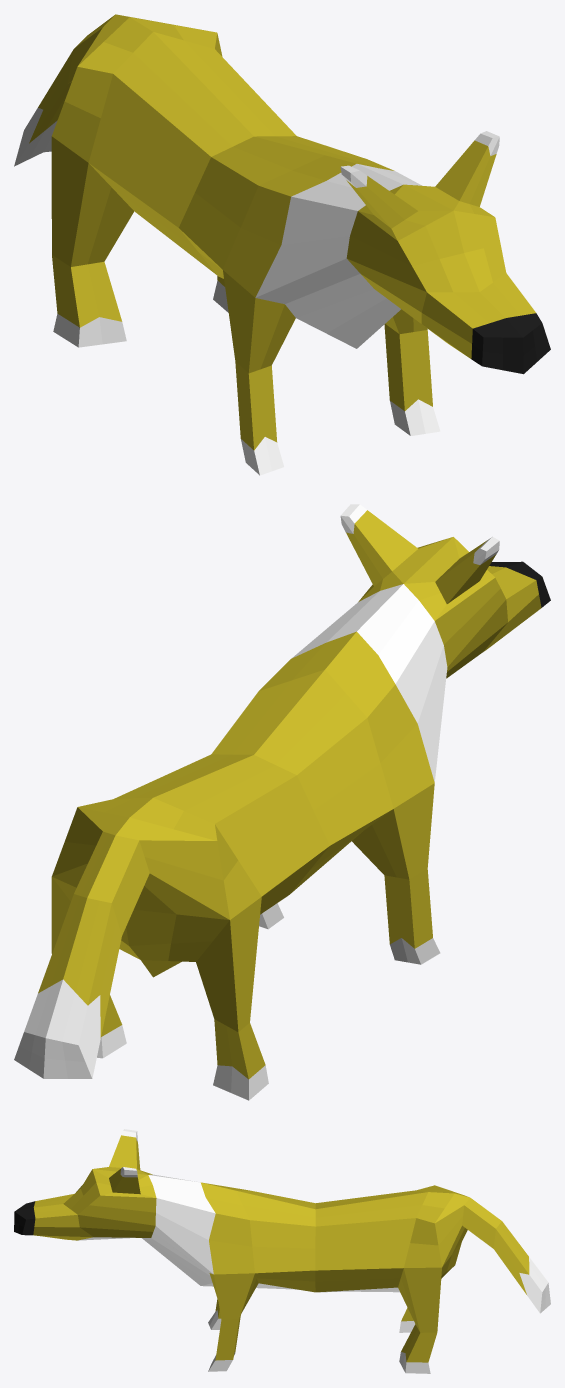
The model's file is Fox.fbx.
3 views of the same model, one above another, from view 1: azimuth 30°, elevation 25°; view 2: azimuth 150°, elevation 25°; view 3: azimuth 270°, elevation 25° (orthographic). The views are drawn at different scales.
Visible parts, largest first — view 1: Fox; view 2: Fox; view 3: Fox.
Boxes of the visible parts, x1,y1,x2,y2 form: Fox: (14,14,550,475); Fox: (14,504,550,1100); Fox: (14,1129,550,1373).
Bounding box in the file's own units: 30.79 × 53.36 × 131.
